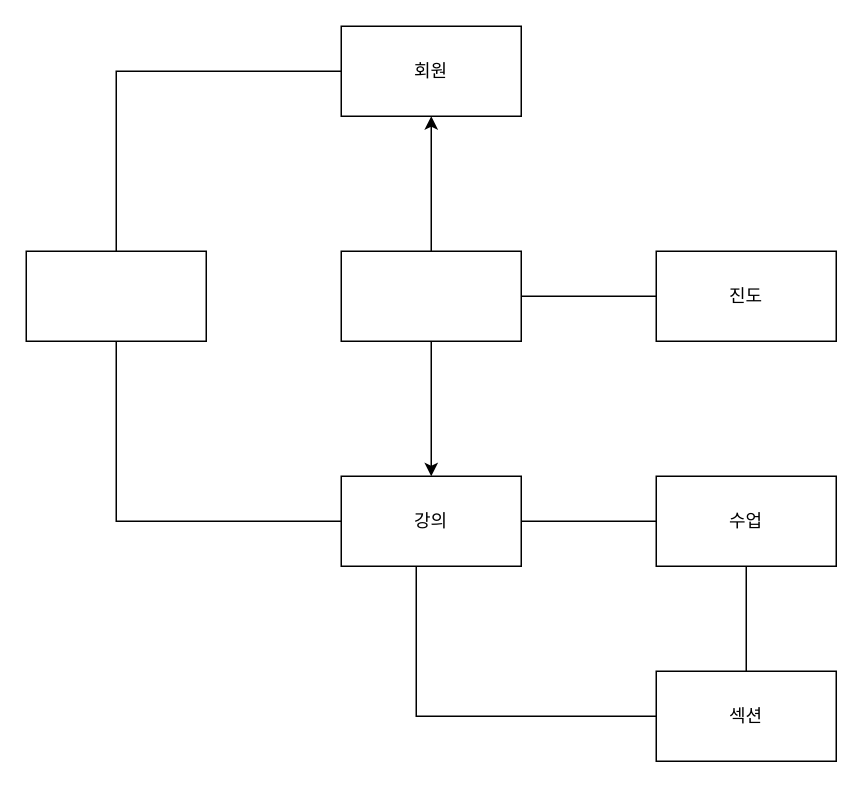
Some shapes in this 863 by 788 pixel diagram are drawn without their labels. Here are the shapes that lost their labels. From the top down, the centre of each, then its label:
At (x=115, y=295): "강사".
At (x=430, y=295): "수강".
